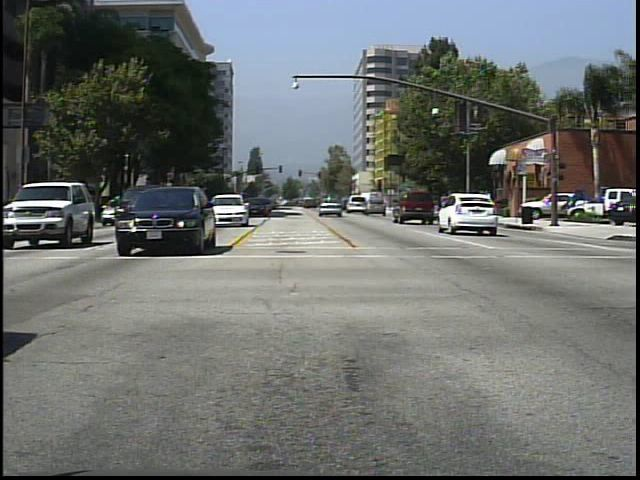person: (437, 191, 456, 224), (473, 189, 490, 218)
